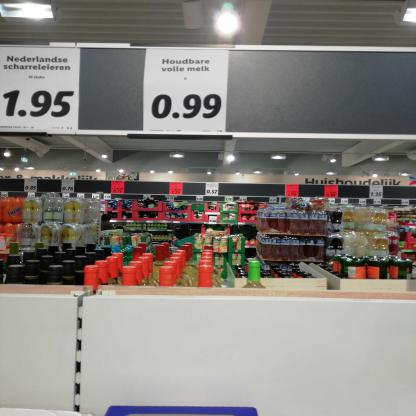prtg: (144, 50, 230, 133), (1, 47, 82, 132)
